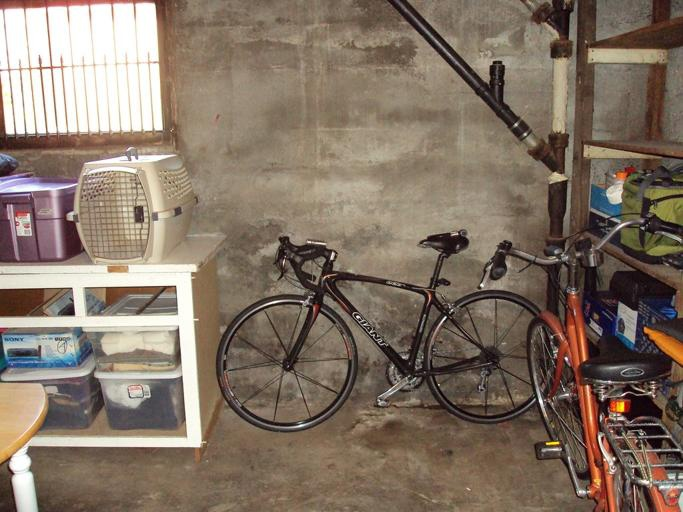non-vehicle: (214, 230, 557, 432), (476, 208, 683, 511)
